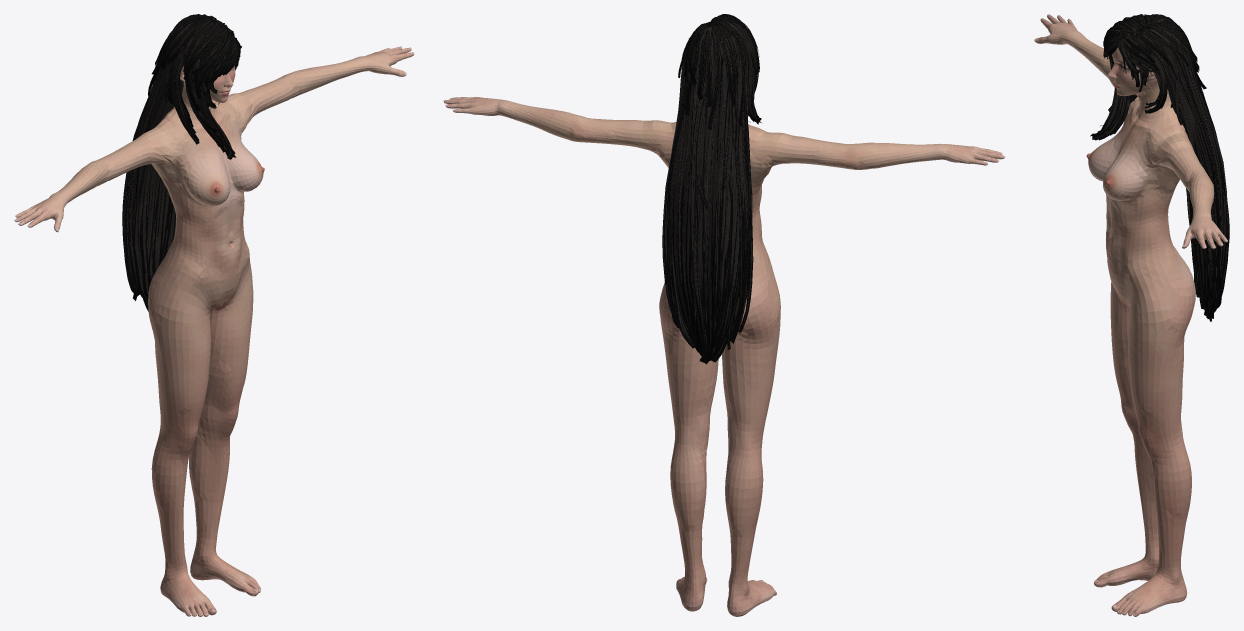
3 renders of one model, left to right at view 1: azimuth 30°, elevation 25°; view 2: azimuth 150°, elevation 25°; view 3: azimuth 270°, elevation 25°, orthographic.
Parts seen in each view (by area): view 1: Object_12, Object_5, Object_4, Object_7, Object_8, Object_2, Object_3, Object_9; view 2: Object_8, Object_12, Object_7, Object_2, Object_3, Object_4, Object_5; view 3: Object_12, Object_8, Object_4, Object_5, Object_7, Object_3, Object_2, Object_9.
Part boxes in pixels (x1,y1,x2,y2): Object_12: [151, 309, 260, 616]; Object_5: [144, 93, 264, 262]; Object_4: [148, 100, 253, 339]; Object_7: [122, 14, 240, 311]; Object_8: [122, 14, 241, 309]; Object_2: [74, 67, 323, 191]; Object_3: [14, 47, 414, 232]; Object_9: [180, 66, 235, 109]; Object_8: [662, 14, 761, 361]; Object_12: [661, 326, 780, 616]; Object_7: [662, 16, 761, 364]; Object_2: [544, 109, 890, 169]; Object_3: [444, 97, 1004, 165]; Object_4: [659, 122, 780, 343]; Object_5: [652, 120, 783, 249]; Object_12: [1094, 306, 1191, 616]; Object_8: [1092, 14, 1229, 320]; Object_4: [1106, 99, 1195, 342]; Object_5: [1086, 97, 1191, 258]; Object_7: [1090, 14, 1229, 321]; Object_3: [1036, 15, 1227, 248]; Object_2: [1092, 49, 1214, 201]; Object_9: [1108, 48, 1170, 108].
Size of the model in its own units: 216 by 250 by 76.32.
13 materials, 13 textured.
